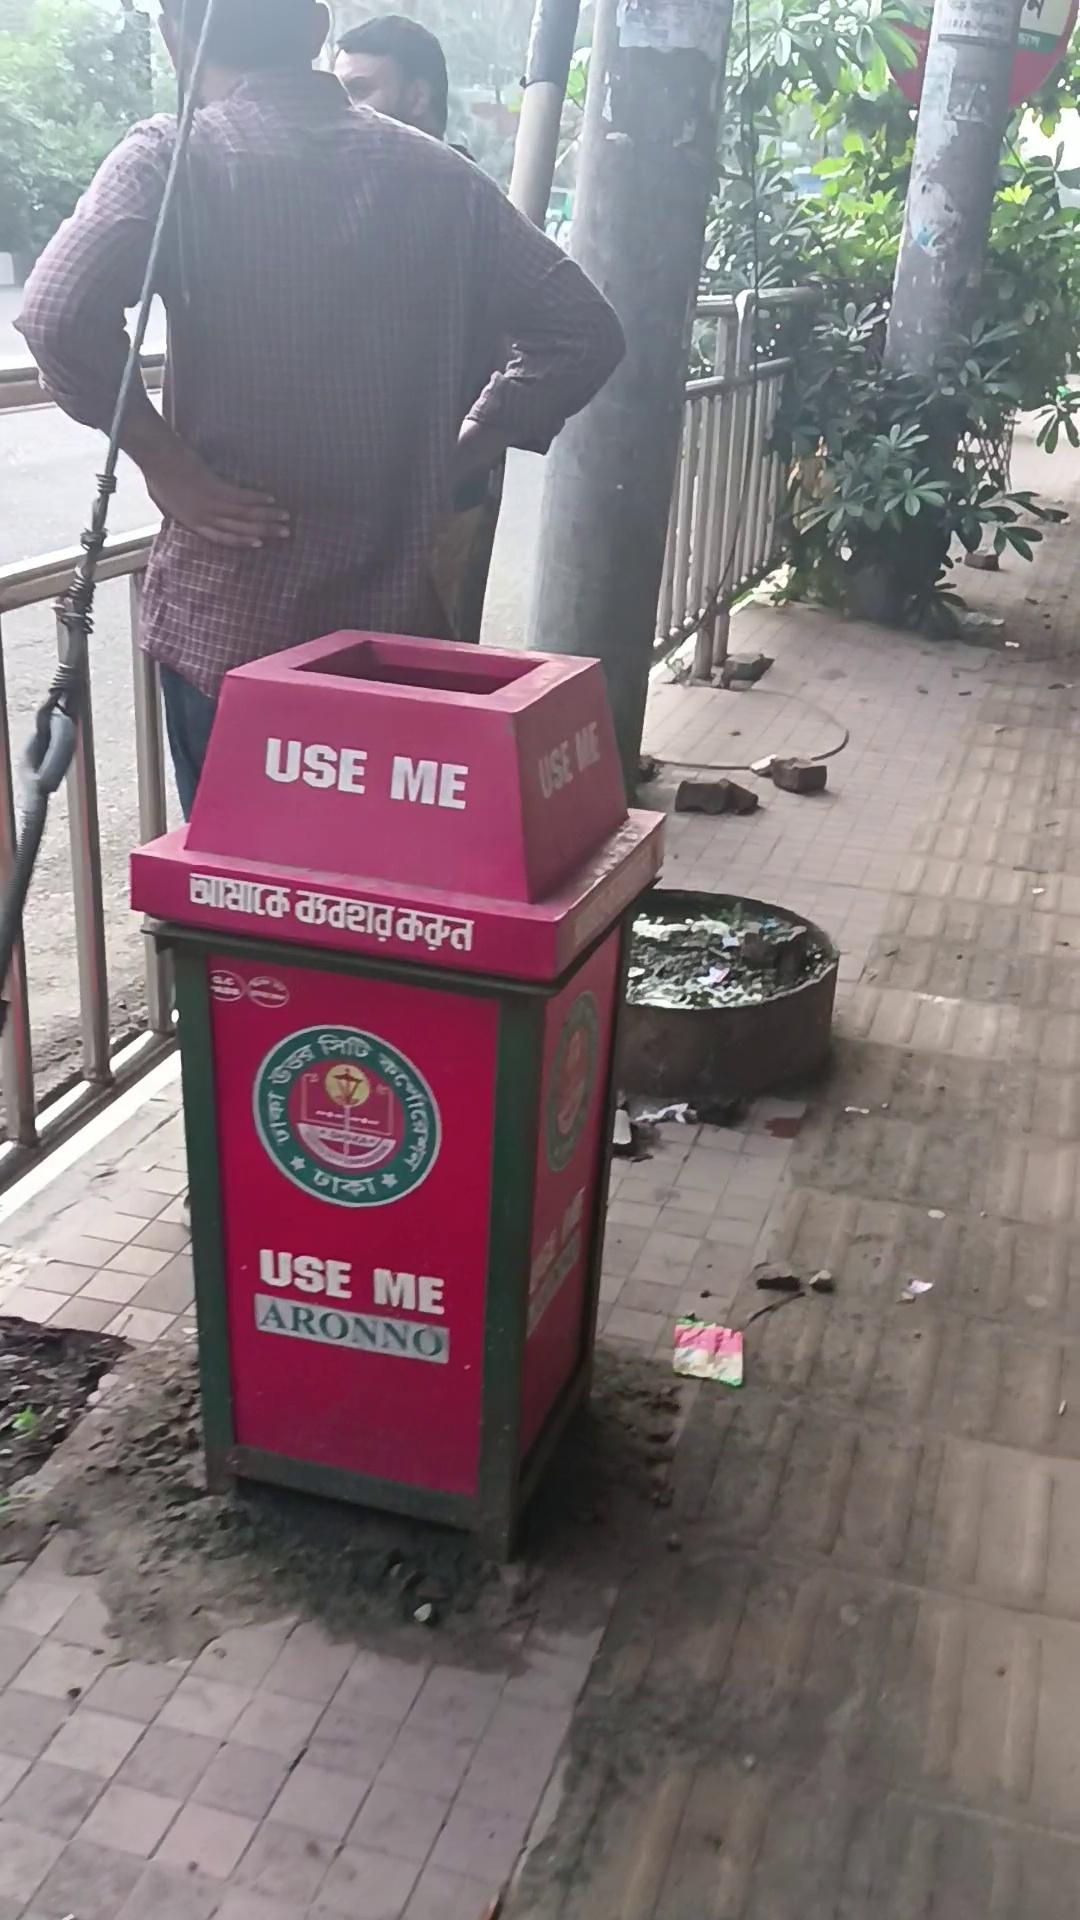Garbage: (126, 623, 668, 1563)
Muddy road: (13, 1, 627, 821), (329, 13, 505, 642)
Potted-plant: (2, 373, 1080, 1916)
Traffic-cone: (746, 1, 1080, 651)
